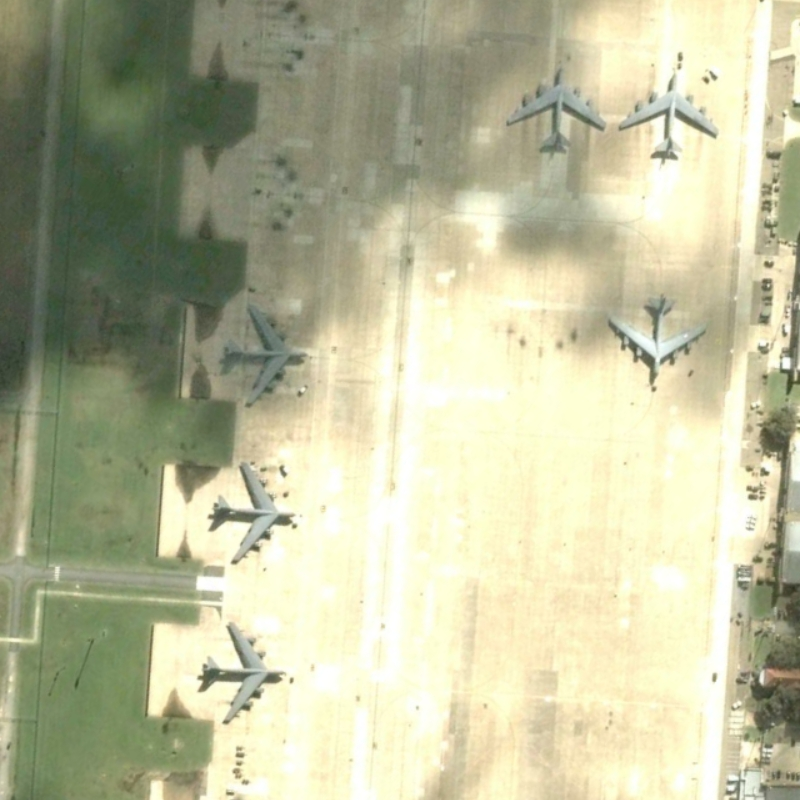A8: (215, 300, 313, 411), (204, 457, 298, 570), (196, 614, 289, 728), (600, 289, 709, 386), (615, 67, 724, 163), (504, 64, 612, 160)
